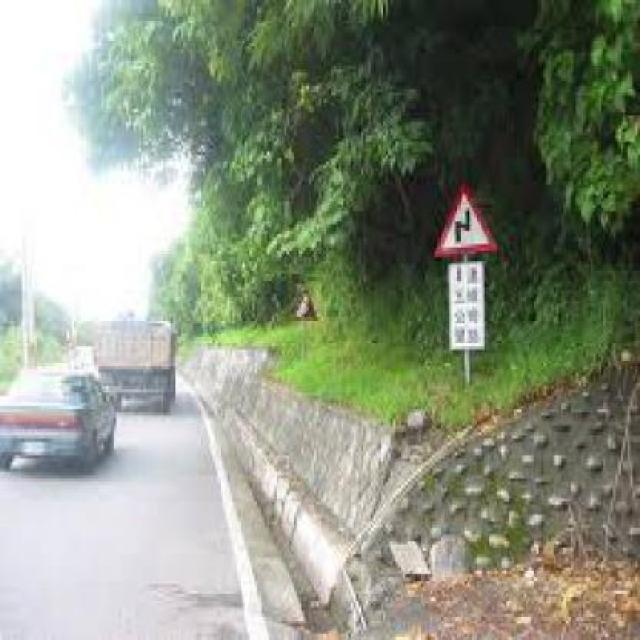warn_double_curve: (433, 181, 502, 261)
